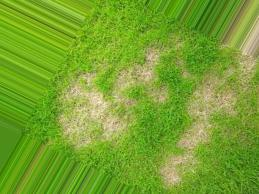patch: (73, 92, 117, 135), (194, 104, 208, 140), (164, 162, 180, 180), (146, 50, 154, 81)
